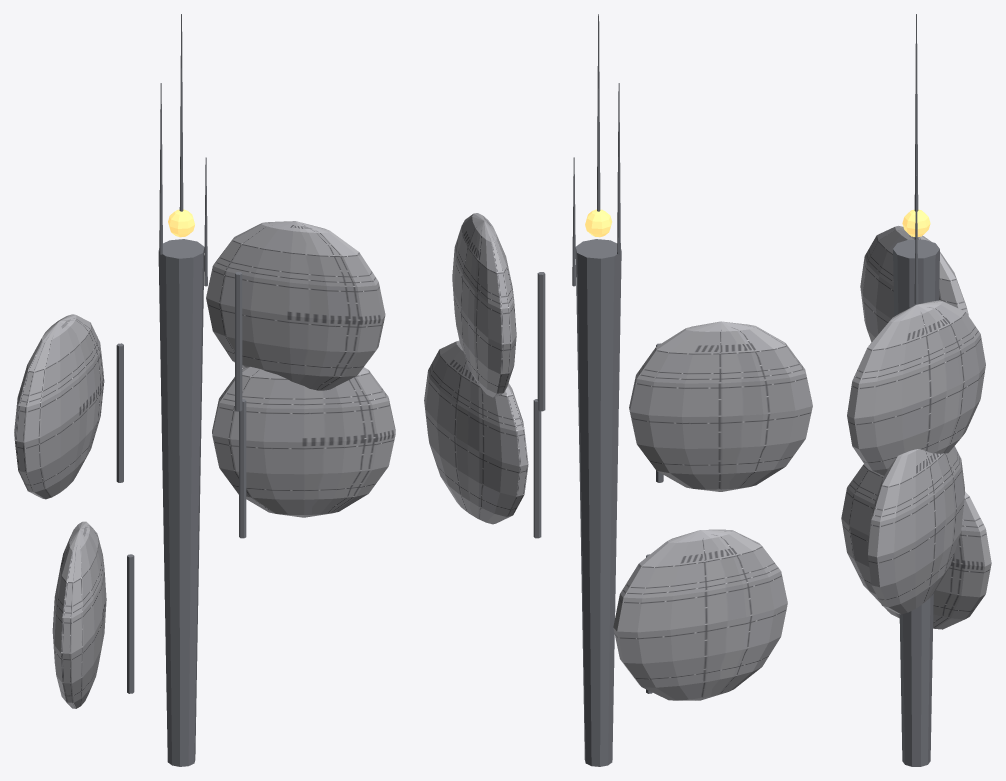
File: station_antenna_array.glb
3 views of the same model, side by side, from view 1: azimuth 30°, elevation 25°; view 2: azimuth 150°, elevation 25°; view 3: azimuth 270°, elevation 25° (orthographic).
Parts seen in each view (by area): view 1: Merged_StationHull, Merged_StationDark; view 2: Merged_StationHull, Merged_StationDark; view 3: Merged_StationHull, Merged_StationDark, Merged_StationAmber.
Part boxes in pixels (bbox=[...]): Merged_StationHull: bbox=[14, 221, 395, 708]; Merged_StationDark: bbox=[116, 14, 246, 766]; Merged_StationHull: bbox=[424, 213, 812, 700]; Merged_StationDark: bbox=[533, 14, 663, 766]; Merged_StationHull: bbox=[841, 225, 991, 629]; Merged_StationDark: bbox=[893, 14, 939, 766]; Merged_StationAmber: bbox=[902, 209, 930, 236].
Size of the model in its own units: 9.44 by 17.5 by 3.19.
Materials: 3 (1 with a texture image).
